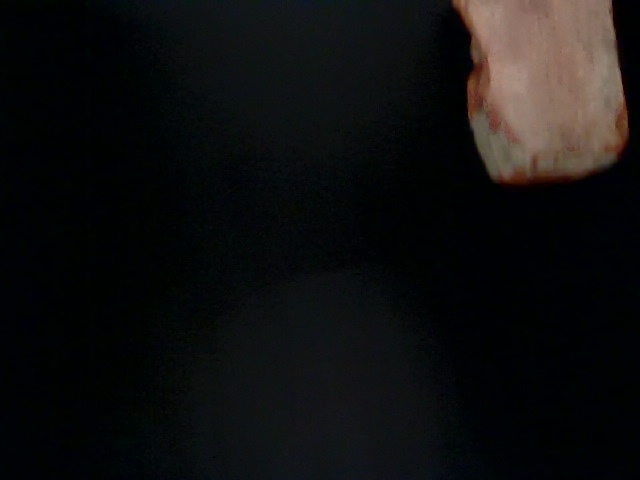KHSLJ: (1, 1, 309, 339)
